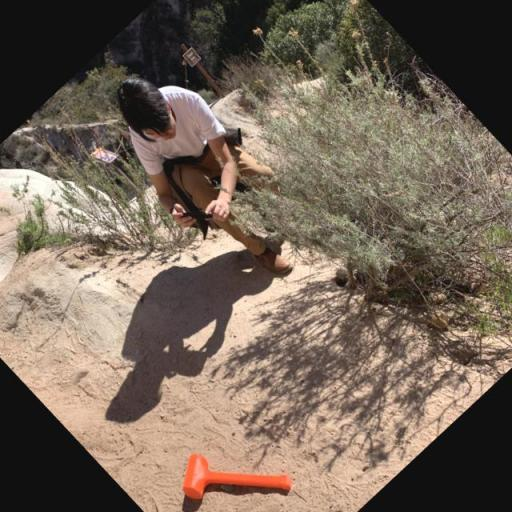mallet: (168, 413, 297, 512)
